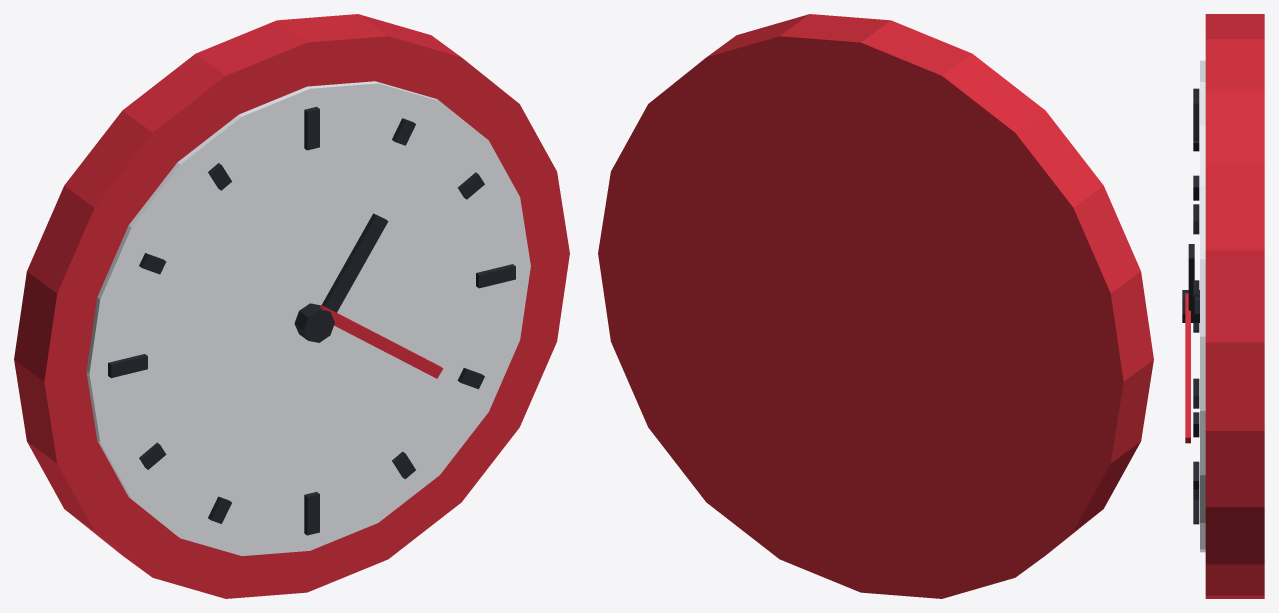
The model's file is WallClock.fbx.
3 views of the same model, side by side, from view 1: azimuth 30°, elevation 25°; view 2: azimuth 150°, elevation 25°; view 3: azimuth 270°, elevation 25° (orthographic). The views are drawn at different scales.
Parts seen in each view (by area): view 1: WallClock; view 2: WallClock; view 3: WallClock.
Boxes of the visible parts, x1=… form: WallClock: x1=14, y1=14, x2=569, y2=598; WallClock: x1=598, y1=14, x2=1153, y2=598; WallClock: x1=1182, y1=14, x2=1264, y2=598.
Bounding box in the file's own units: 5 × 5 × 0.7.
Materials: 1 (1 with a texture image).
